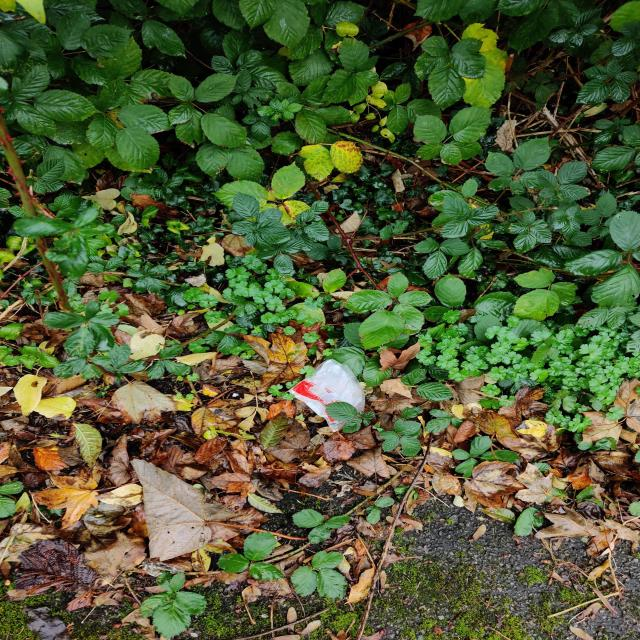litter: (268, 335, 400, 439)
